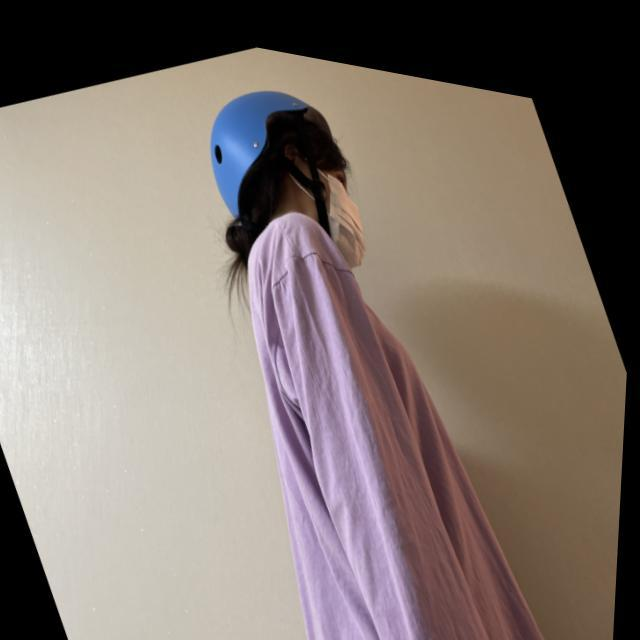Helmet: (209, 70, 372, 289)
